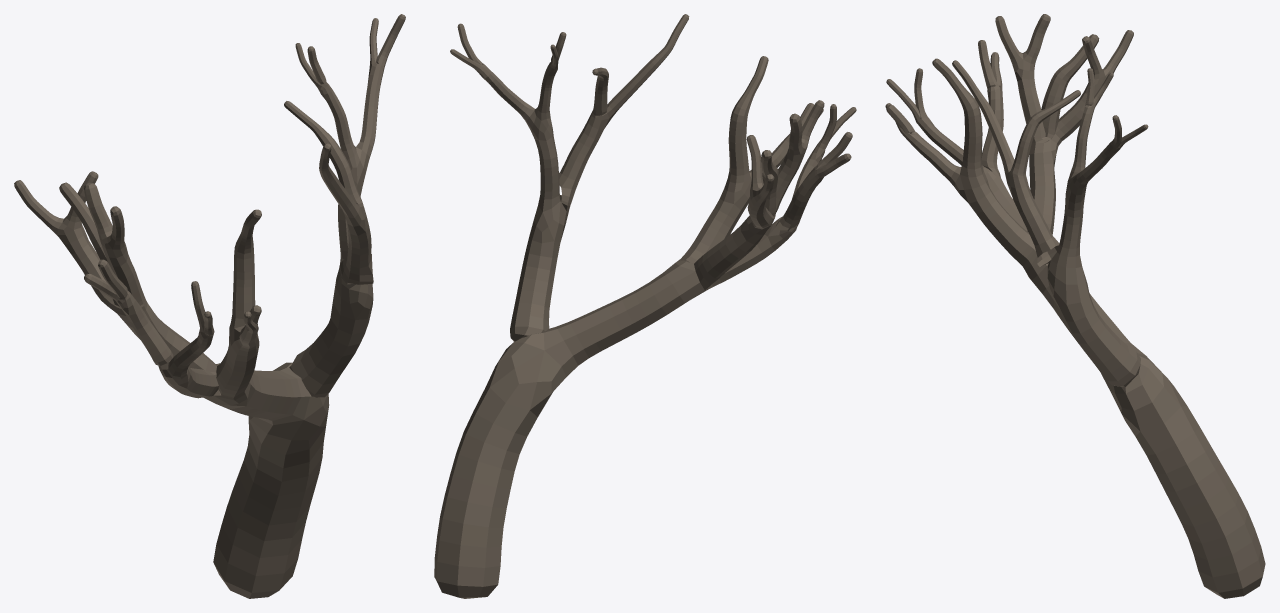
The model's file is dead_tree_2.glb.
3 renders of one model, left to right at view 1: azimuth 30°, elevation 25°; view 2: azimuth 150°, elevation 25°; view 3: azimuth 270°, elevation 25°, orthographic. The views are drawn at different scales.
Visible parts, largest first — view 1: tree; view 2: tree; view 3: tree.
Boxes of the visible parts, <box> form: tree: <box>14,14,405,598</box>; tree: <box>434,14,856,598</box>; tree: <box>885,14,1265,598</box>.
Size of the model in its own units: 2.95 by 4.4 by 2.96.
